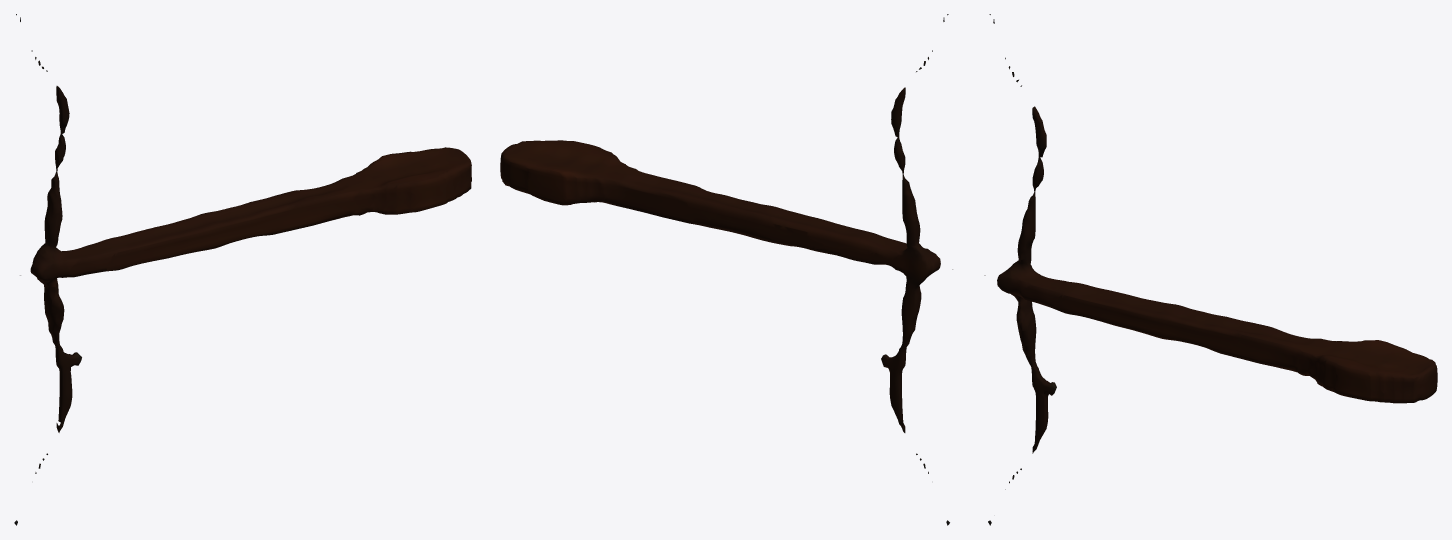
The model's file is Cross_Bow.FBX.
The picture shows the model from 3 angles, left to right: view 1: azimuth 30°, elevation 25°; view 2: azimuth 150°, elevation 25°; view 3: azimuth 330°, elevation 25°; orthographic projection.
Visible parts, largest first — view 1: plyFile; view 2: plyFile; view 3: plyFile.
Boxes of the visible parts, left/top/right/bottom form: plyFile: left=14, top=14, right=471, bottom=525; plyFile: left=500, top=14, right=952, bottom=525; plyFile: left=984, top=14, right=1437, bottom=525.
Bounding box in the file's own units: 180 × 197 × 25.99.
